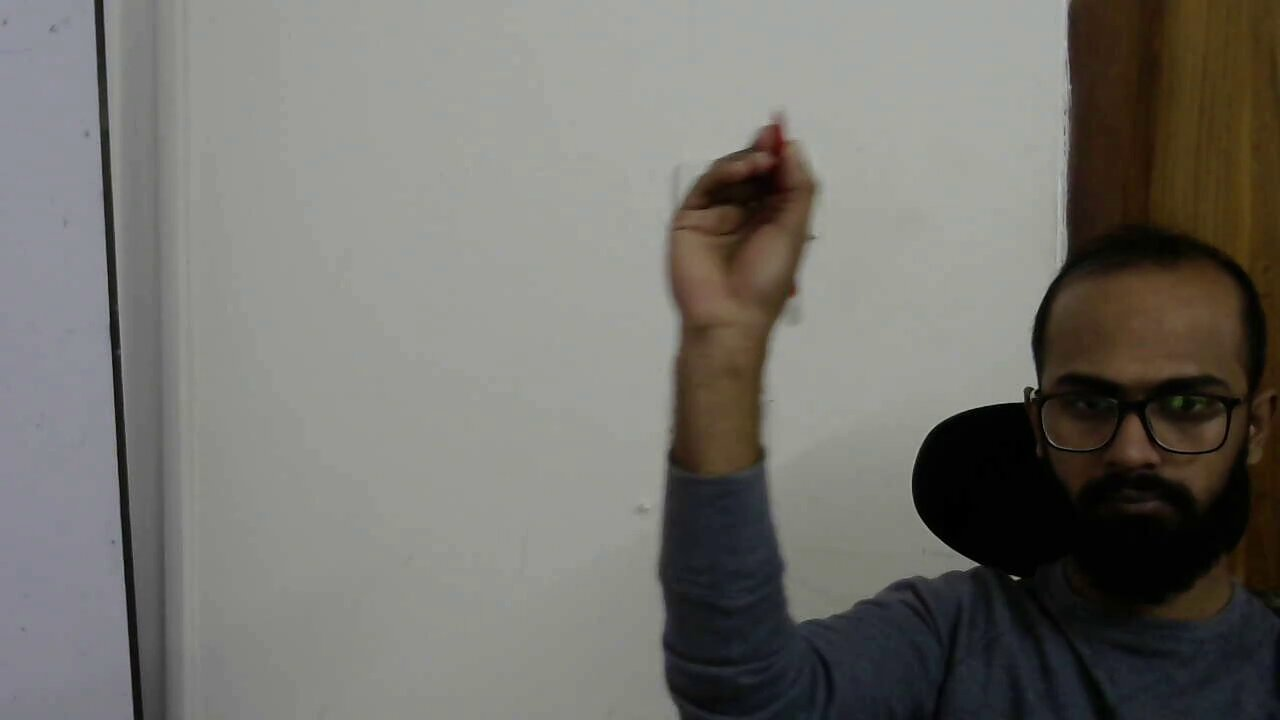pointer: (679, 121, 821, 258)
